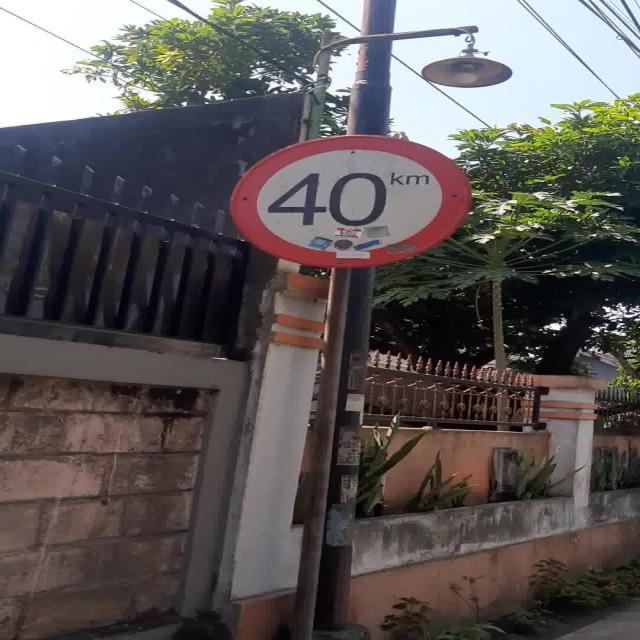Kecepatan Maks. 40 km: (228, 134, 472, 268)
